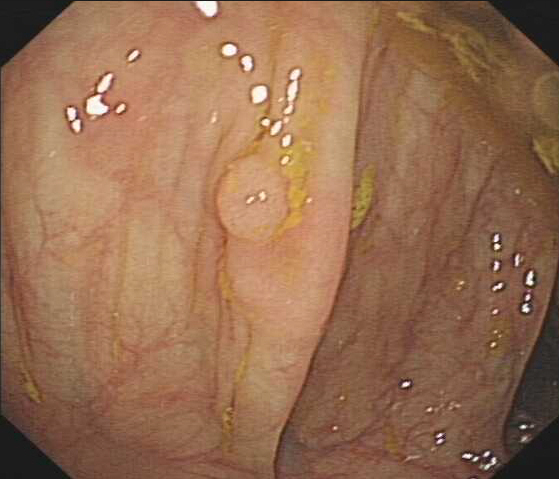adenoma: (210, 152, 292, 244)
